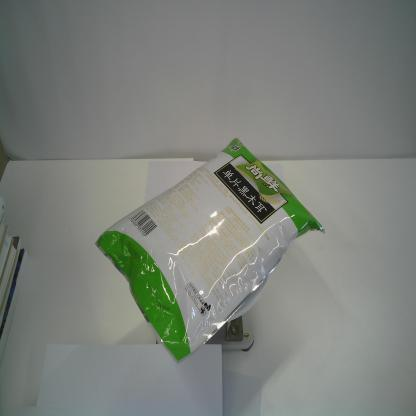Dried Food: (93, 135, 326, 366)
